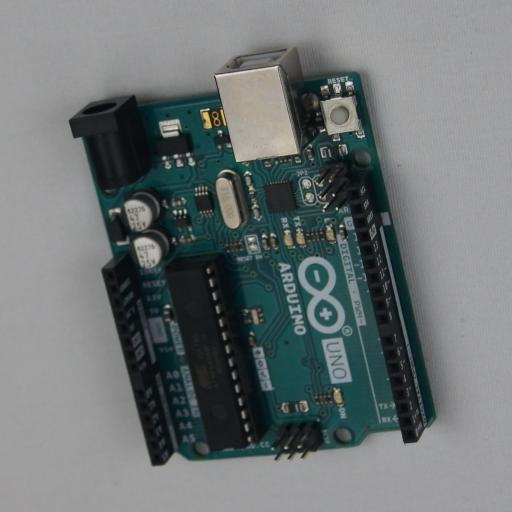Arduino Uno -Green-: (68, 47, 438, 466)
